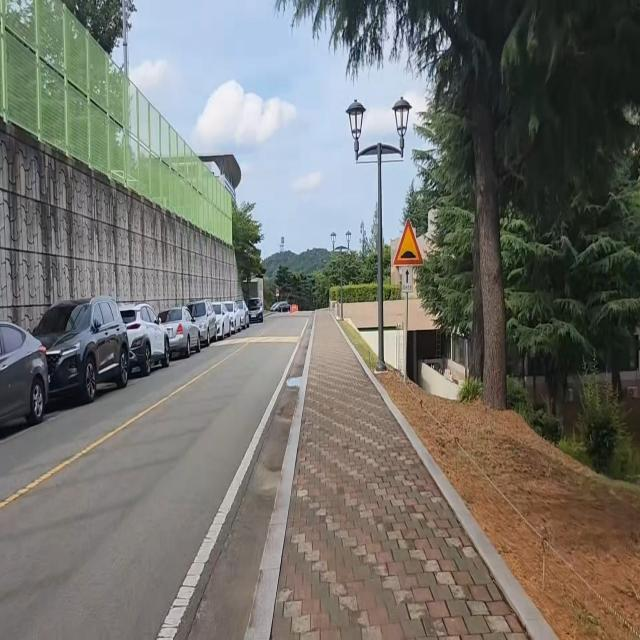obstacle: (344, 84, 416, 379)
road: (0, 311, 315, 640)
sidewalk: (247, 310, 565, 640)
